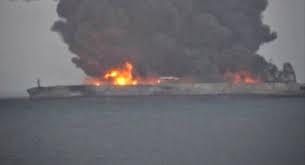fire: (88, 62, 161, 88), (230, 69, 262, 86)
